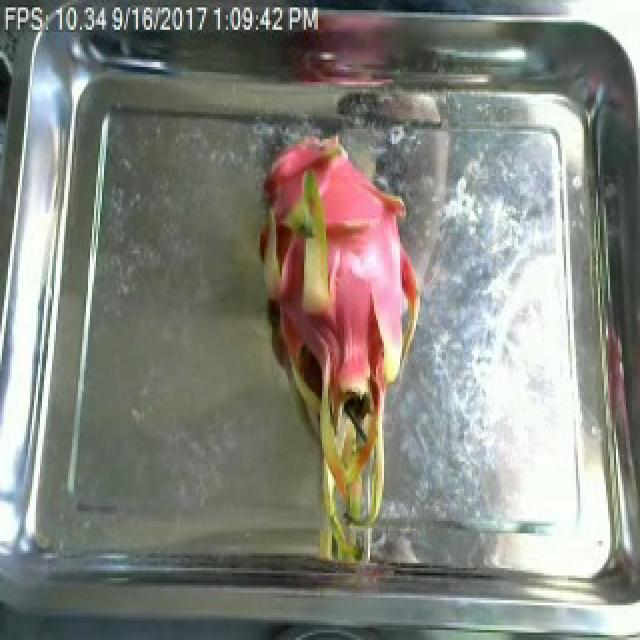fruit: (246, 134, 436, 578)
